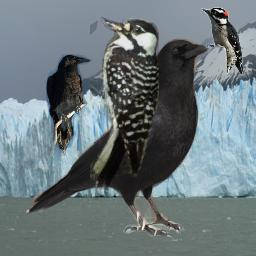Crow: (26, 35, 212, 239), (46, 54, 92, 156)
Woodpecker: (90, 16, 159, 200), (201, 7, 244, 74)
